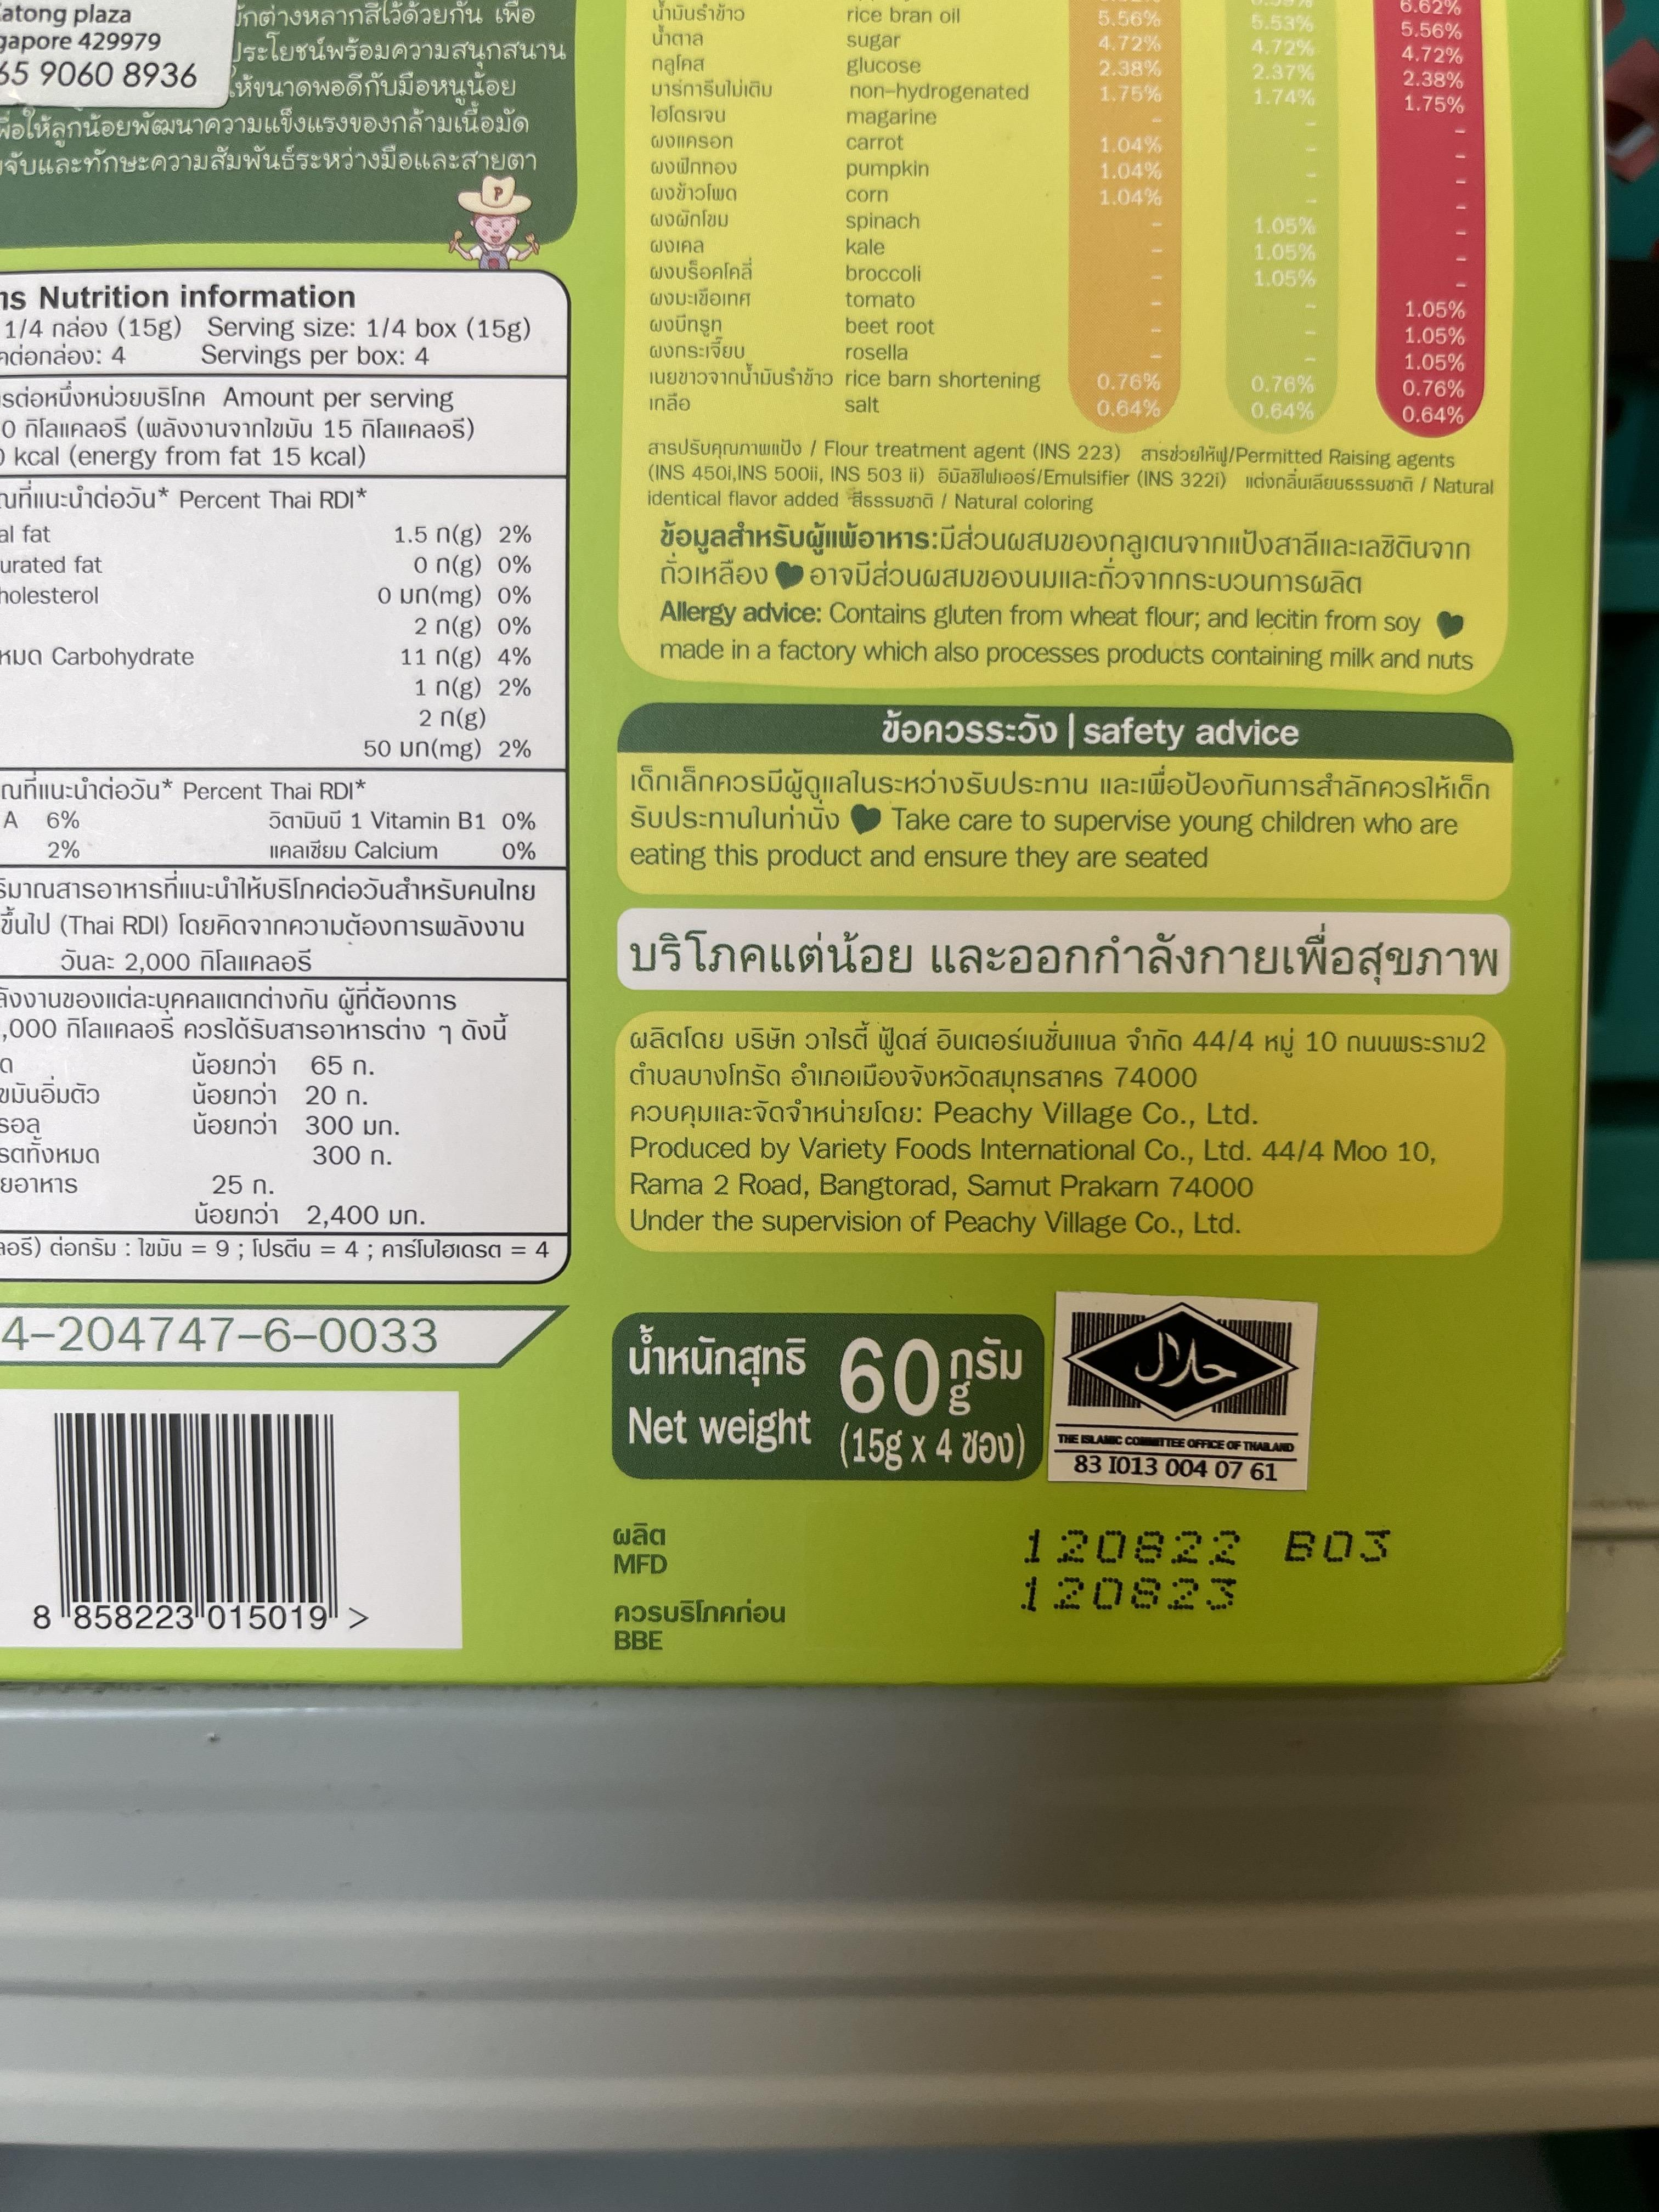object_name: (0, 0, 1520, 1641)
